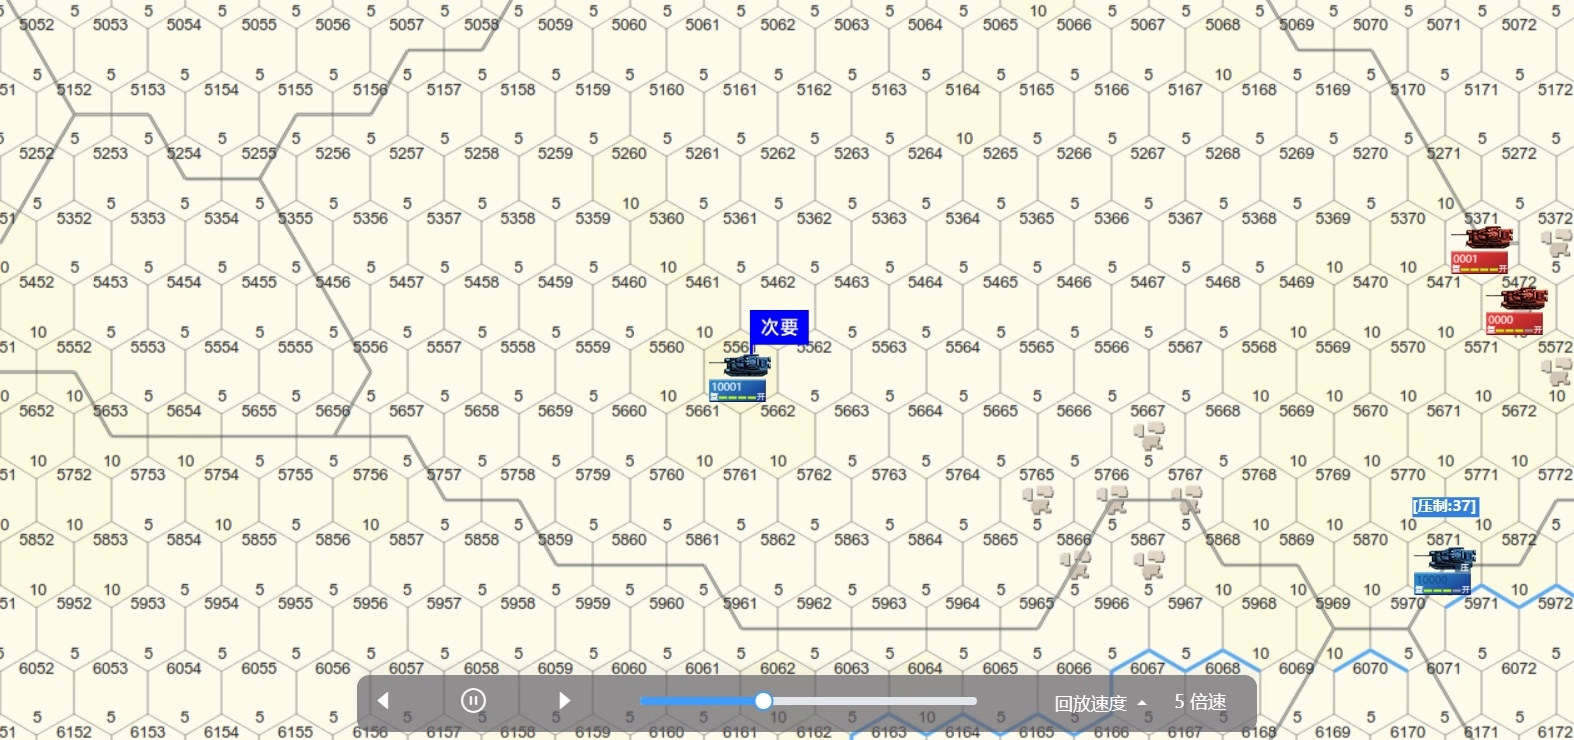blue_tank: (1415, 547, 1483, 598), (715, 356, 778, 400)
red_tank: (1451, 221, 1512, 279), (1486, 279, 1549, 335)
